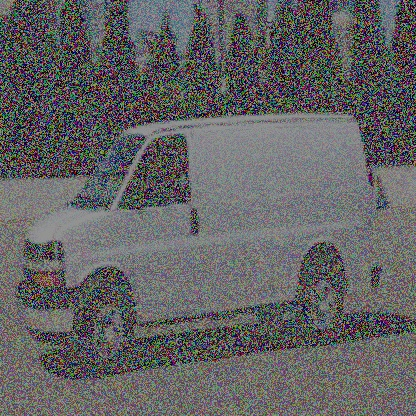Vehicle: (13, 106, 385, 384)
